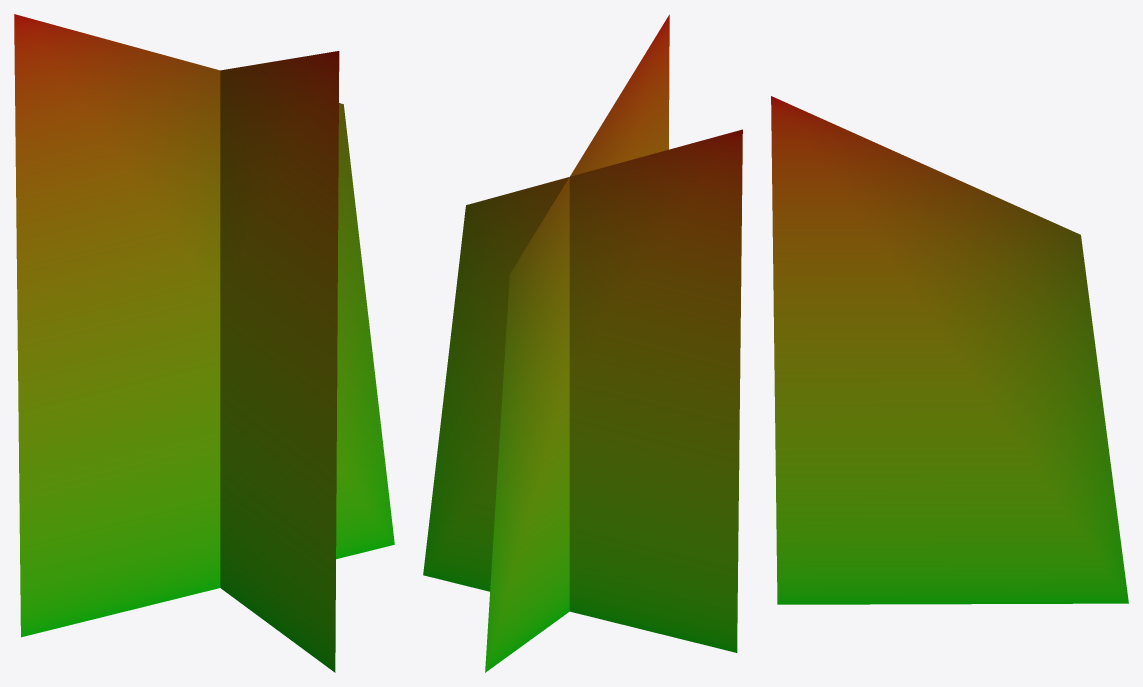
File: Var7_LOD4.fbx
The picture shows the model from 3 angles, left to right: view 1: azimuth 30°, elevation 25°; view 2: azimuth 150°, elevation 25°; view 3: azimuth 270°, elevation 25°; orthographic projection. The views are drawn at different scales.
Visible parts, largest first — view 1: _i788_Var7_LOD4; view 2: _i788_Var7_LOD4; view 3: _i788_Var7_LOD4.
Part boxes in pixels (left/top/right/bottom): _i788_Var7_LOD4: left=14, top=14, right=394, bottom=672; _i788_Var7_LOD4: left=423, top=14, right=742, bottom=672; _i788_Var7_LOD4: left=771, top=96, right=1128, bottom=604.
Bounding box in the file's own units: 10.96 × 17.2 × 10.96.
